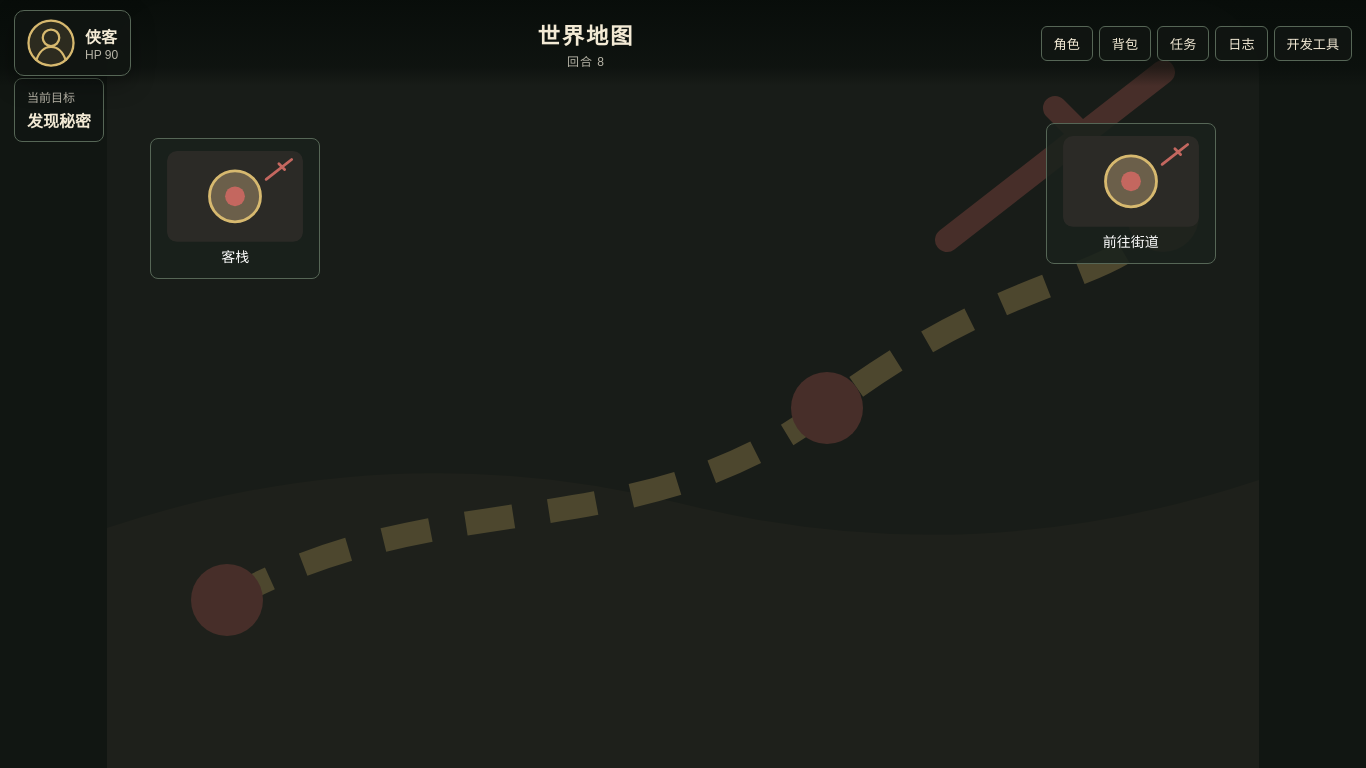
Test: AdventureGameShell canonical opaque choices › enters the current map node locally without submitting an action
Click the button "客栈" at (235, 209), box [150,138,320,279]
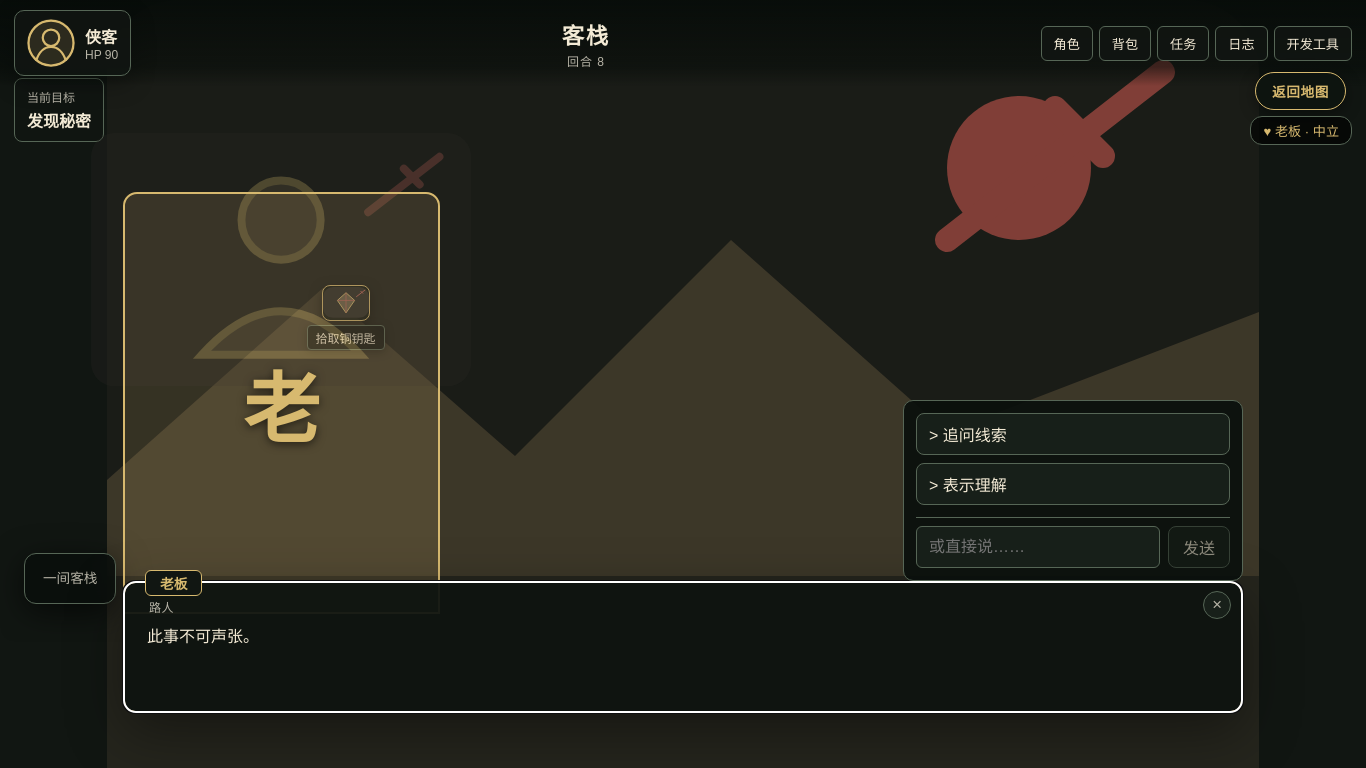
Now the element named "地点场景：客栈" is shown
